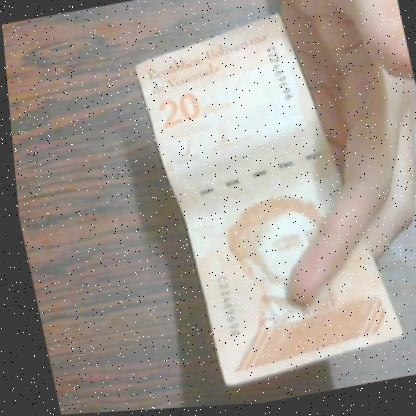twenty-front-vef: (126, 6, 402, 395)
